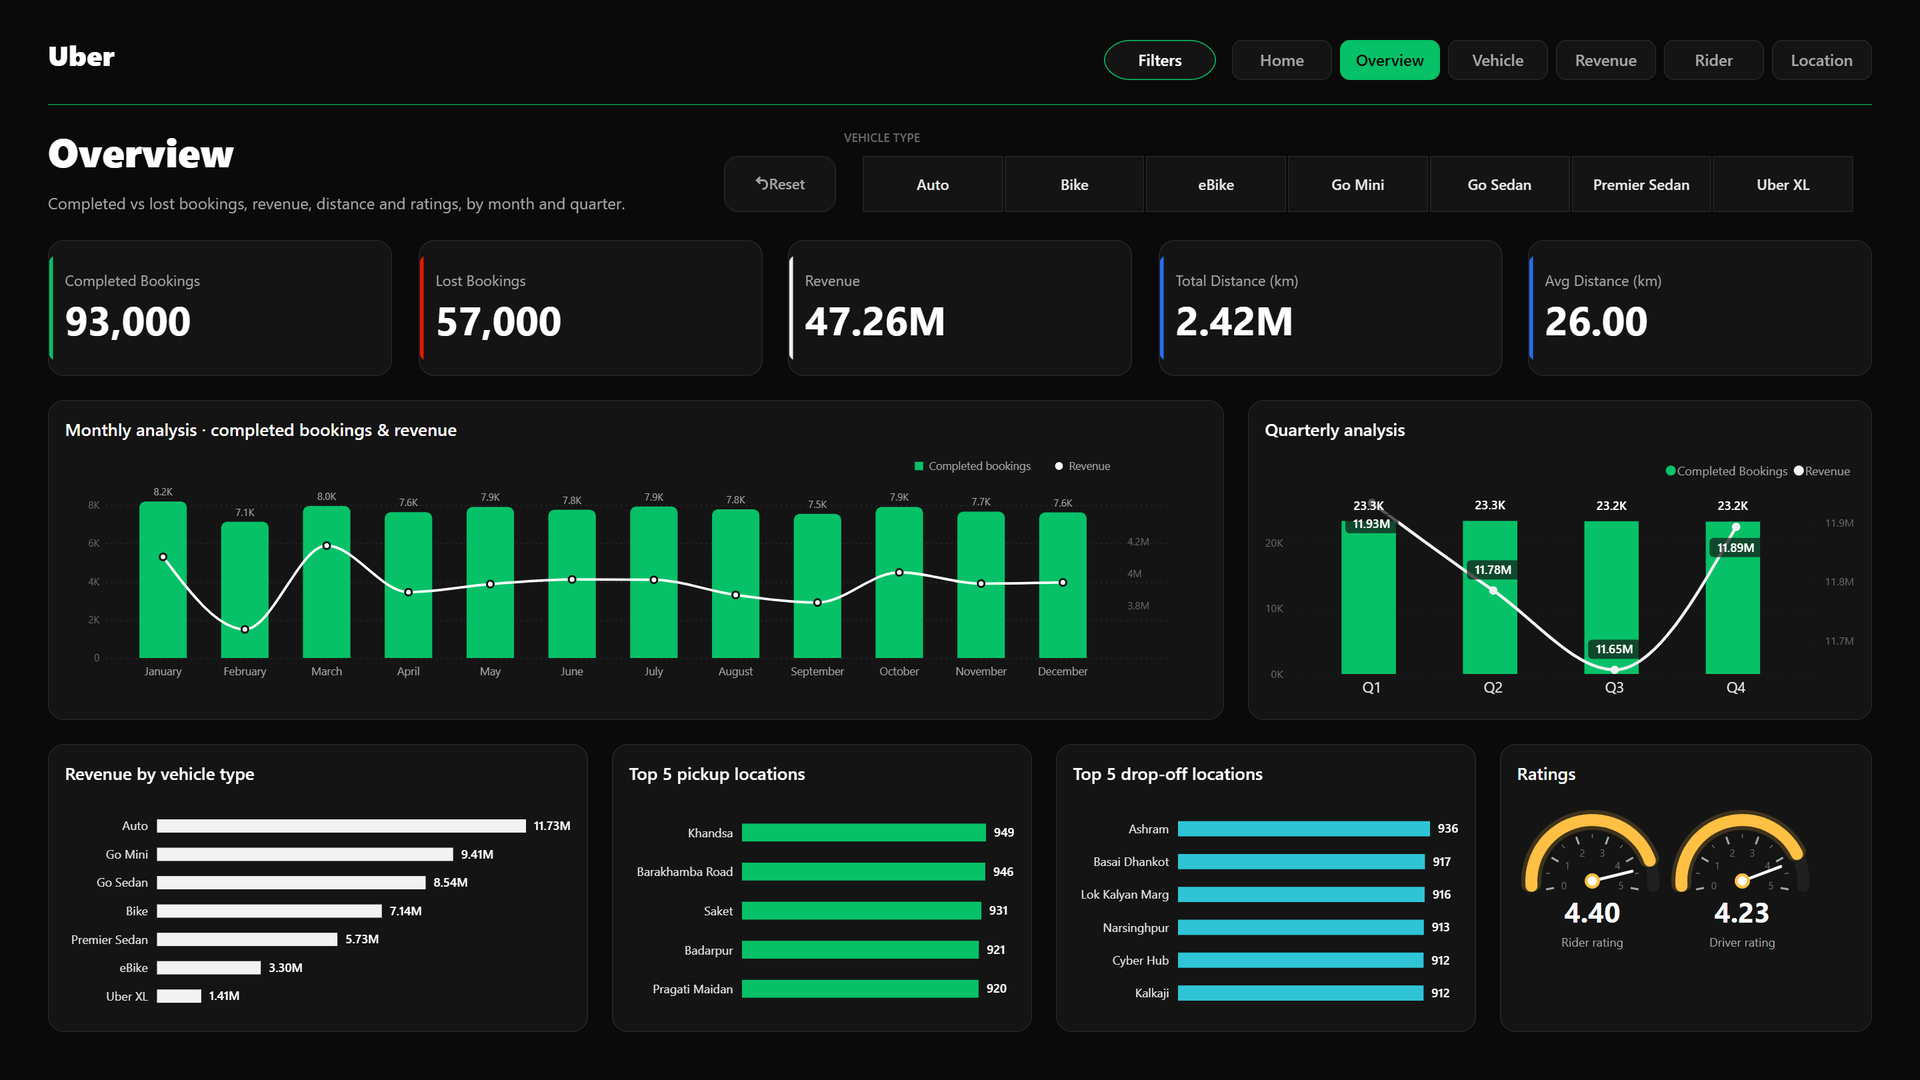

Layout of this report page (visuals, bound fields, positions):
{"tool":"powerbi","page":{"name":"Overview","canvas":[1920,1080],"ordinal":1},"visuals":[{"type":"textbox","box":[48,36,200,48],"z":100},{"type":"actionButton","box":[1232,40,100,40],"z":200},{"type":"actionButton","box":[1340,40,100,40],"z":300},{"type":"actionButton","box":[1448,40,100,40],"z":400},{"type":"actionButton","box":[1556,40,100,40],"z":500},{"type":"actionButton","box":[1664,40,100,40],"z":600},{"type":"actionButton","box":[1772,40,100,40],"z":700},{"type":"shape","box":[48,104,1824,1],"z":800},{"type":"textbox","box":[48,124,640,68],"z":900},{"type":"textbox","box":[48,192,640,28],"z":1000},{"type":"actionButton","box":[724,156,112,56],"z":1100},{"type":"textbox","box":[844,128,300,24],"z":1200},{"type":"slicer","fields":{"Values":["Dim_Vehicle.Vehicle Type"]},"box":[844,156,1028,56],"z":1300},{"type":"cardVisual","fields":{"Data":["# Measures.Completed Bookings"]},"box":[48,240,344,136],"z":1400},{"type":"cardVisual","fields":{"Data":["# Measures.Lost Bookings"]},"box":[418,240,344,136],"z":1401},{"type":"cardVisual","fields":{"Data":["# Measures.Revenue"]},"box":[788,240,344,136],"z":1402},{"type":"cardVisual","fields":{"Data":["# Measures.Total Distance"]},"box":[1158,240,344,136],"z":1403},{"type":"cardVisual","fields":{"Data":["# Measures.Avg Distance"]},"box":[1528,240,344,136],"z":1404},{"type":"deneb7E15AEF80B9E4D4F8E12924291ECE89A","title":"Monthly analysis  ·  completed bookings & revenue","fields":{"dataset":["Dim_Date.Month Name","Dim_Date.Month Number","# Measures.Completed Bookings","# Measures.Revenue"]},"box":[48,400,1176,320],"z":1500},{"type":"lineClusteredColumnComboChart","title":"Quarterly analysis","fields":{"Category":["Dim_Date.Quarter"],"Y":["# Measures.Completed Bookings"],"Y2":["# Measures.Revenue"]},"box":[1248,400,624,320],"z":1600},{"type":"clusteredBarChart","title":"Revenue by vehicle type","fields":{"Category":["Dim_Vehicle.Vehicle Type"],"Y":["# Measures.Revenue"]},"box":[48,744,540,288],"z":1700},{"type":"clusteredBarChart","title":"Top 5 pickup locations","fields":{"Category":["Dim_Location.Location"],"Y":["# Measures.Total Bookings"]},"box":[612,744,420,288],"z":1800},{"type":"clusteredBarChart","title":"Top 5 drop-off locations","fields":{"Category":["Dim_Location.Location"],"Y":["# Measures.Drop Bookings"]},"box":[1056,744,420,288],"z":1900},{"type":"deneb7E15AEF80B9E4D4F8E12924291ECE89A","title":"Ratings","fields":{"dataset":["# Measures.Avg Customer Rating","# Measures.Avg Driver Rating"]},"box":[1500,744,372,288],"z":2000},{"type":"actionButton","box":[1104,40,112,40],"z":90010}]}

Visuals, with their boxes in screenshot pixels (x1, y1, x2, y2), scaled from the page's 1920x1080 canvas onto the 1920x1080 screenshot:
textbox: pyautogui.locateOnScreen(48, 36, 248, 84)
actionButton: pyautogui.locateOnScreen(1232, 40, 1332, 80)
actionButton: pyautogui.locateOnScreen(1340, 40, 1440, 80)
actionButton: pyautogui.locateOnScreen(1448, 40, 1548, 80)
actionButton: pyautogui.locateOnScreen(1556, 40, 1656, 80)
actionButton: pyautogui.locateOnScreen(1664, 40, 1764, 80)
actionButton: pyautogui.locateOnScreen(1772, 40, 1872, 80)
shape: pyautogui.locateOnScreen(48, 104, 1872, 105)
textbox: pyautogui.locateOnScreen(48, 124, 688, 192)
textbox: pyautogui.locateOnScreen(48, 192, 688, 220)
actionButton: pyautogui.locateOnScreen(724, 156, 836, 212)
textbox: pyautogui.locateOnScreen(844, 128, 1144, 152)
slicer - Dim_Vehicle.Vehicle Type: pyautogui.locateOnScreen(844, 156, 1872, 212)
cardVisual - # Measures.Completed Bookings: pyautogui.locateOnScreen(48, 240, 392, 376)
cardVisual - # Measures.Lost Bookings: pyautogui.locateOnScreen(418, 240, 762, 376)
cardVisual - # Measures.Revenue: pyautogui.locateOnScreen(788, 240, 1132, 376)
cardVisual - # Measures.Total Distance: pyautogui.locateOnScreen(1158, 240, 1502, 376)
cardVisual - # Measures.Avg Distance: pyautogui.locateOnScreen(1528, 240, 1872, 376)
"Monthly analysis  ·  completed bookings & revenue" deneb7E15AEF80B9E4D4F8E12924291ECE89A: pyautogui.locateOnScreen(48, 400, 1224, 720)
"Quarterly analysis" lineClusteredColumnComboChart: pyautogui.locateOnScreen(1248, 400, 1872, 720)
"Revenue by vehicle type" clusteredBarChart: pyautogui.locateOnScreen(48, 744, 588, 1032)
"Top 5 pickup locations" clusteredBarChart: pyautogui.locateOnScreen(612, 744, 1032, 1032)
"Top 5 drop-off locations" clusteredBarChart: pyautogui.locateOnScreen(1056, 744, 1476, 1032)
"Ratings" deneb7E15AEF80B9E4D4F8E12924291ECE89A: pyautogui.locateOnScreen(1500, 744, 1872, 1032)
actionButton: pyautogui.locateOnScreen(1104, 40, 1216, 80)
